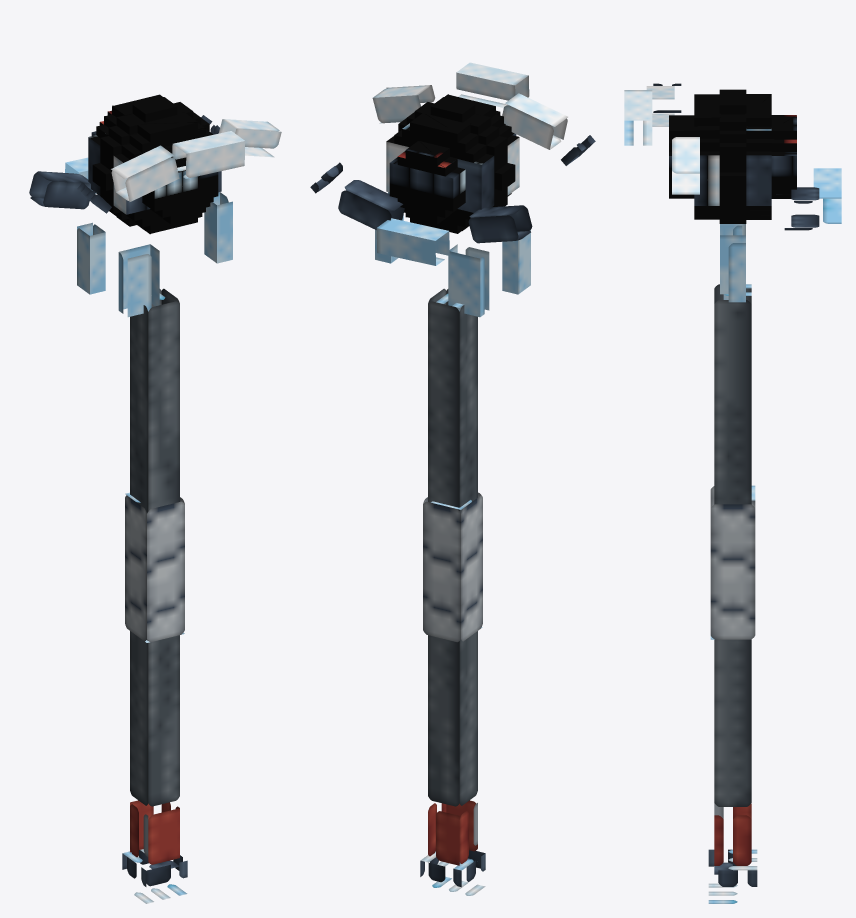
The model's file is blizzard_staff.obj.
3 renders of one model, left to right at view 1: azimuth 30°, elevation 25°; view 2: azimuth 150°, elevation 25°; view 3: azimuth 270°, elevation 25°, orthographic.
Visible parts, largest first — view 1: lit, fire; view 2: lit, fire; view 3: lit, fire.
Part boxes in pixels (box(x1,y1,x2,y2)): lit: box(29, 115, 281, 903); fire: box(88, 94, 221, 234); lit: box(310, 62, 595, 895); fire: box(386, 94, 519, 233); lit: box(624, 83, 841, 903); fire: box(669, 89, 796, 223).
Size of the model in its own units: 0.9064 by 3.26 by 0.7293.
